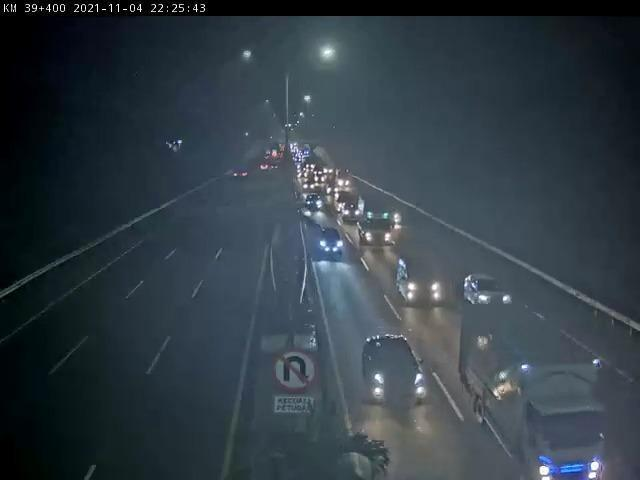car: (364, 339, 423, 401), (394, 255, 445, 307), (466, 272, 517, 312), (320, 226, 347, 261), (305, 192, 326, 212)
truck: (461, 306, 610, 480), (360, 204, 399, 251)
